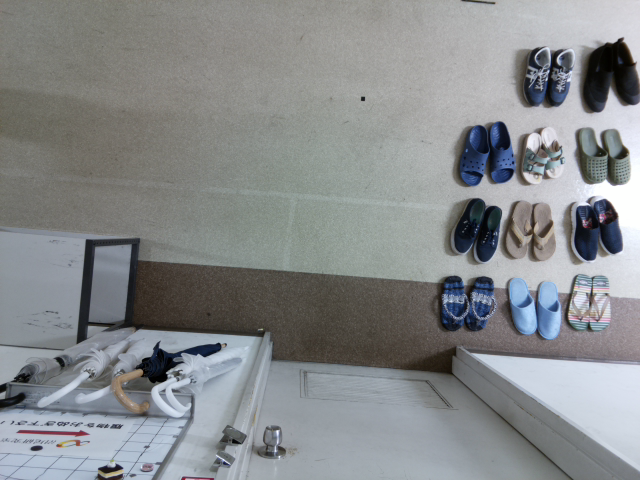Copy of Copy of Copy of Copy of Copy of Copy of Copy of sandal: (540, 127, 566, 177)
Copy of Copy of Copy of Copy of Copy of Copy of Copy of shoes: (450, 197, 486, 256)
Copy of Copy of Copy of Copy of Copy of Copy of sandal: (521, 132, 547, 185)
Copy of Copy of Copy of Copy of Copy of Copy of shoes: (472, 204, 502, 263)
Copy of Copy of Copy of Copy of Copy of sandal: (505, 201, 533, 260)
Copy of Copy of Copy of Copy of Copy of shoes: (569, 201, 599, 264)
Copy of Copy of Copy of Copy of sandal: (532, 203, 557, 262)
Copy of Copy of Copy of Copy of shoes: (589, 195, 624, 256)
Copy of Copy of Copy of sandal: (567, 272, 592, 330)
Copy of Copy of Copy of shoes: (523, 45, 552, 106)
Copy of Copy of Copy of slipper: (507, 277, 537, 334)
Copy of Copy of sandal: (588, 273, 611, 331)
Copy of Copy of shoes: (545, 46, 575, 106)
Copy of Copy of slipper: (456, 122, 488, 184), (537, 280, 562, 339)
Copy of sandal: (464, 275, 497, 331)
Copy of shoes: (583, 42, 612, 112)
Copy of slipper: (458, 124, 490, 186), (601, 128, 631, 184)
sandal: (439, 275, 468, 332)
shoes: (611, 36, 640, 105)
slipper: (576, 126, 608, 183)
